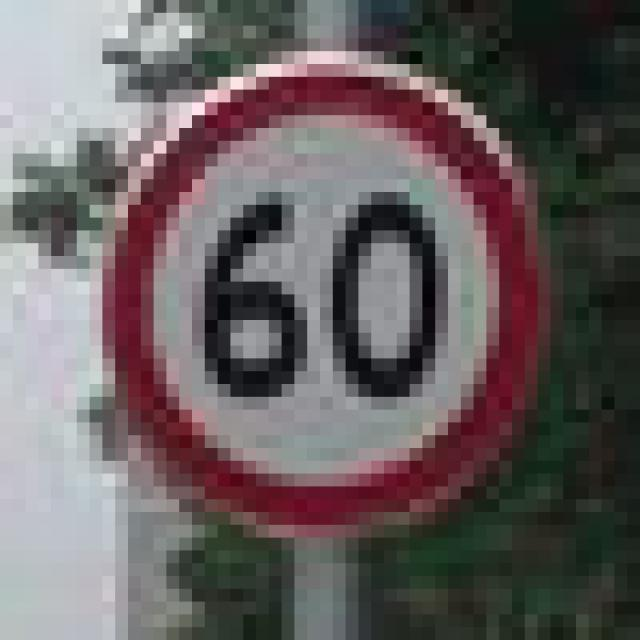SPEED_LIMIT_60: (90, 38, 524, 525)
